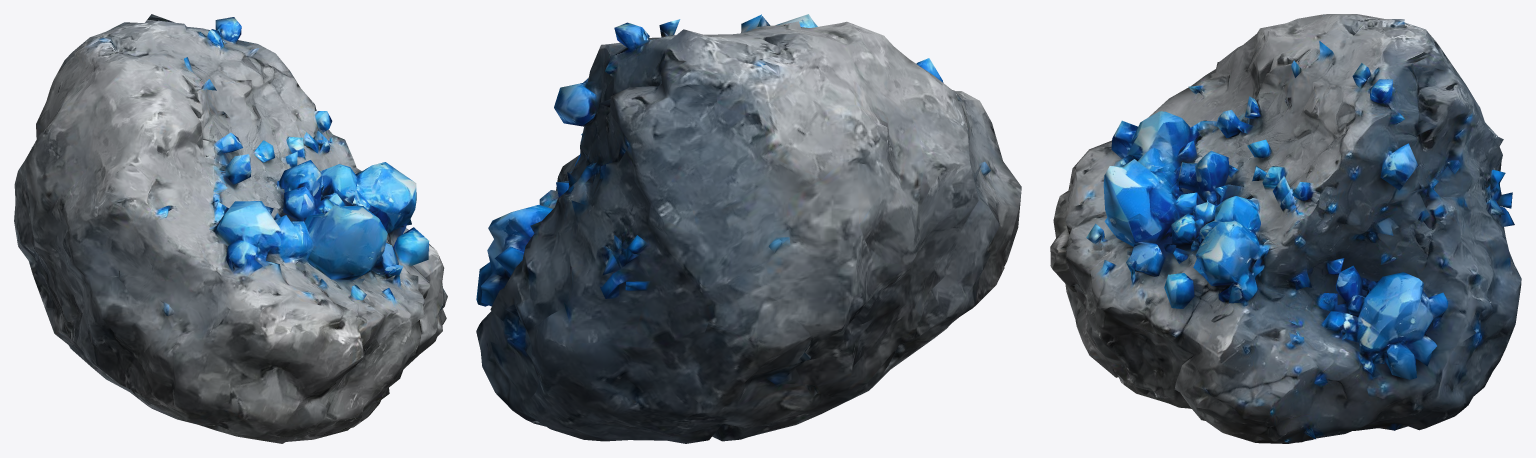
The model's file is qr_vein1.glb.
The picture shows the model from 3 angles, left to right: view 1: azimuth 30°, elevation 25°; view 2: azimuth 150°, elevation 25°; view 3: azimuth 270°, elevation 25°; orthographic projection. The views are drawn at different scales.
Parts seen in each view (by area): view 1: tripo_node_e5db7d17-f6d8-4d80-890c-3d11147852f1; view 2: tripo_node_e5db7d17-f6d8-4d80-890c-3d11147852f1; view 3: tripo_node_e5db7d17-f6d8-4d80-890c-3d11147852f1.
Part boxes in pixels (box(x1,y1,x2,y2)): tripo_node_e5db7d17-f6d8-4d80-890c-3d11147852f1: box(14, 14, 447, 443); tripo_node_e5db7d17-f6d8-4d80-890c-3d11147852f1: box(476, 14, 1021, 443); tripo_node_e5db7d17-f6d8-4d80-890c-3d11147852f1: box(1050, 14, 1521, 443).
Size of the model in its own units: 0.8992 by 0.7698 by 1.
Materials: 1 (1 with a texture image).
